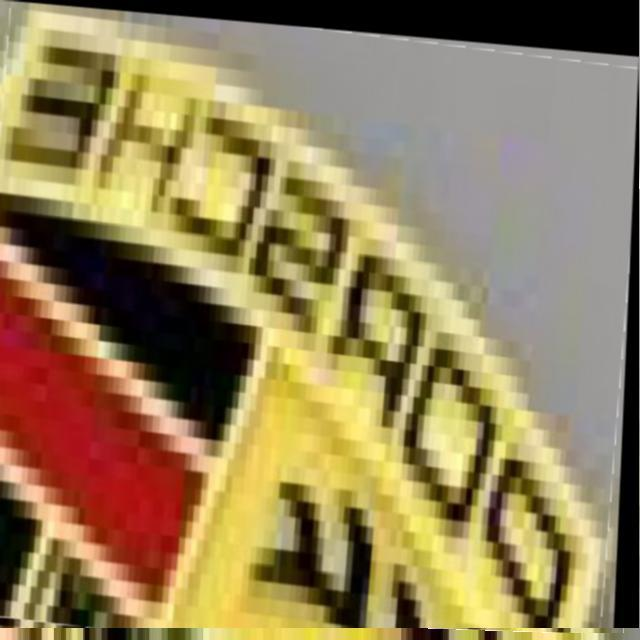Porsche: (0, 0, 639, 628)
